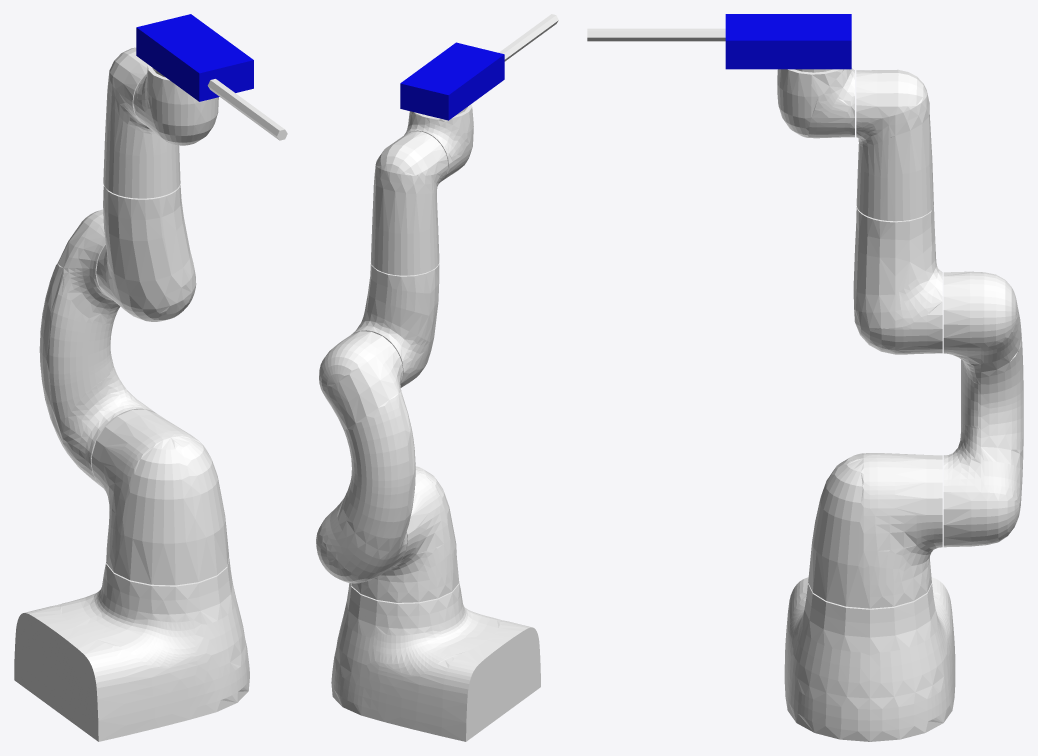
Rendered from cobotta_r.dae.
The picture shows the model from 3 angles, left to right: view 1: azimuth 30°, elevation 25°; view 2: azimuth 150°, elevation 25°; view 3: azimuth 270°, elevation 25°; orthographic projection. The views are drawn at different scales.
Visible parts, largest first — view 1: base_link, J1, J2, J3, J4, Jtoolbase, J5, Jtooltip; view 2: base_link, J2, J4, J1, J3, Jtoolbase, J5, Jtooltip; view 3: base_link, J2, J1, J3, J4, Jtoolbase, J5, Jtooltip.
Part boxes in pixels (x1=…): base_link: x1=14, y1=557, x2=249, y2=741; J1: x1=91, y1=409, x2=228, y2=585; J2: x1=39, y1=209, x2=156, y2=486; J3: x1=96, y1=184, x2=196, y2=321; J4: x1=103, y1=47, x2=180, y2=198; Jtoolbase: x1=136, y1=14, x2=253, y2=101; J5: x1=133, y1=64, x2=218, y2=145; Jtooltip: x1=207, y1=79, x2=287, y2=140; base_link: x1=331, y1=583, x2=540, y2=741; J2: x1=316, y1=331, x2=415, y2=583; J4: x1=371, y1=131, x2=447, y2=275; J1: x1=351, y1=466, x2=459, y2=602; J3: x1=351, y1=263, x2=439, y2=387; Jtoolbase: x1=400, y1=42, x2=504, y2=120; J5: x1=404, y1=104, x2=473, y2=181; Jtooltip: x1=499, y1=14, x2=558, y2=61; base_link: x1=784, y1=577, x2=955, y2=741; J2: x1=943, y1=271, x2=1023, y2=547; J1: x1=808, y1=453, x2=942, y2=608; J3: x1=853, y1=206, x2=942, y2=354; J4: x1=856, y1=69, x2=933, y2=221; Jtoolbase: x1=725, y1=14, x2=851, y2=69; J5: x1=777, y1=68, x2=854, y2=138; Jtooltip: x1=587, y1=28, x2=725, y2=41.
Bounding box in the file's own units: 0.1678 × 0.3465 × 0.5895.
